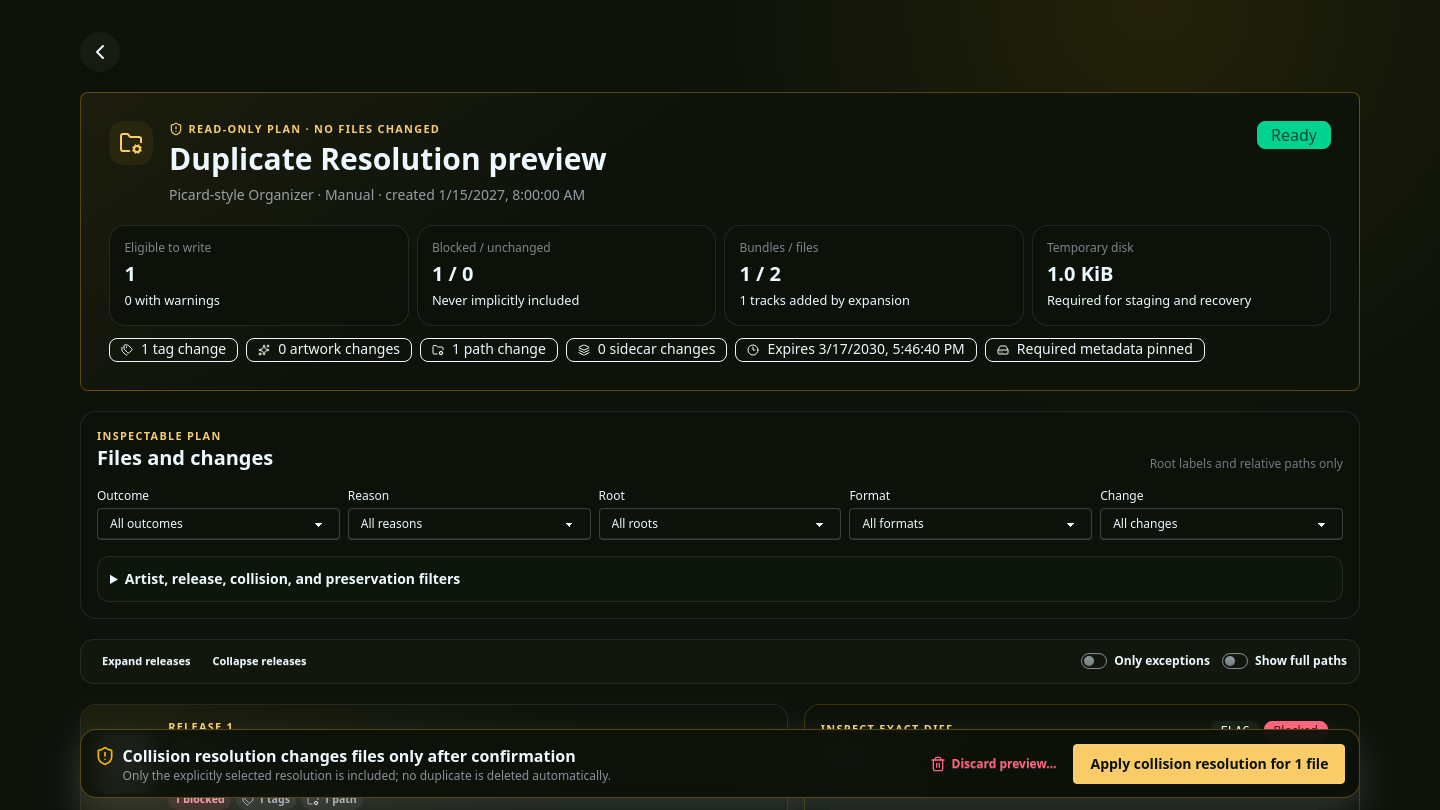
Test: LibraryManagementPreviewPage › uses consequence-specific confirmation copy for duplicate_resolution
Click the button "Apply collision resolution for 1 file". click: [1209, 763]
box: [1074,743,1345,783]
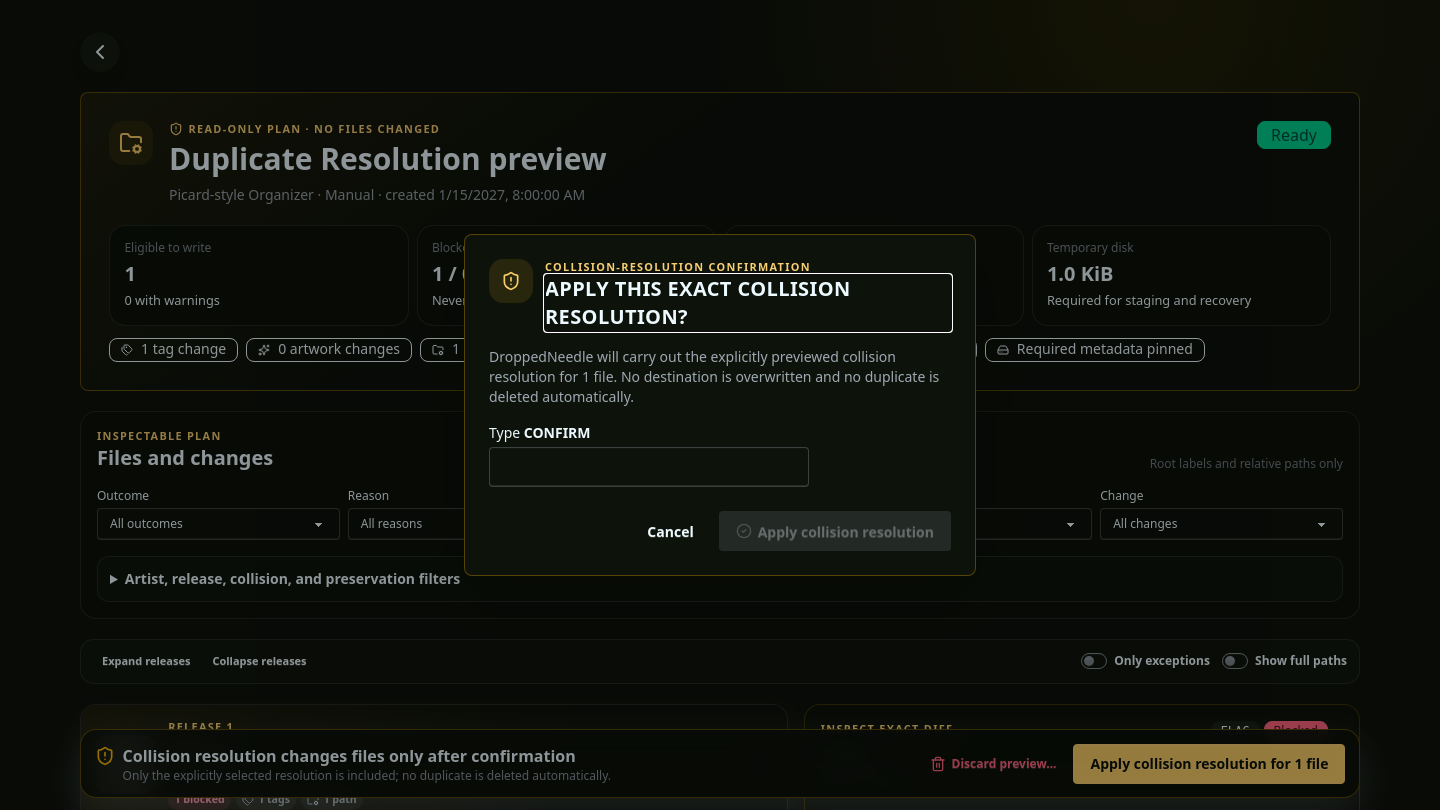
Now the text "No destination is overwritten and no duplicate is deleted automatically" is shown, box [489,347,939,406]
Now the field labelled "Type CONFIRM" is shown, box [489,447,809,487]
Now the button "Apply collision resolution" is disabled, box [719,511,951,551]
